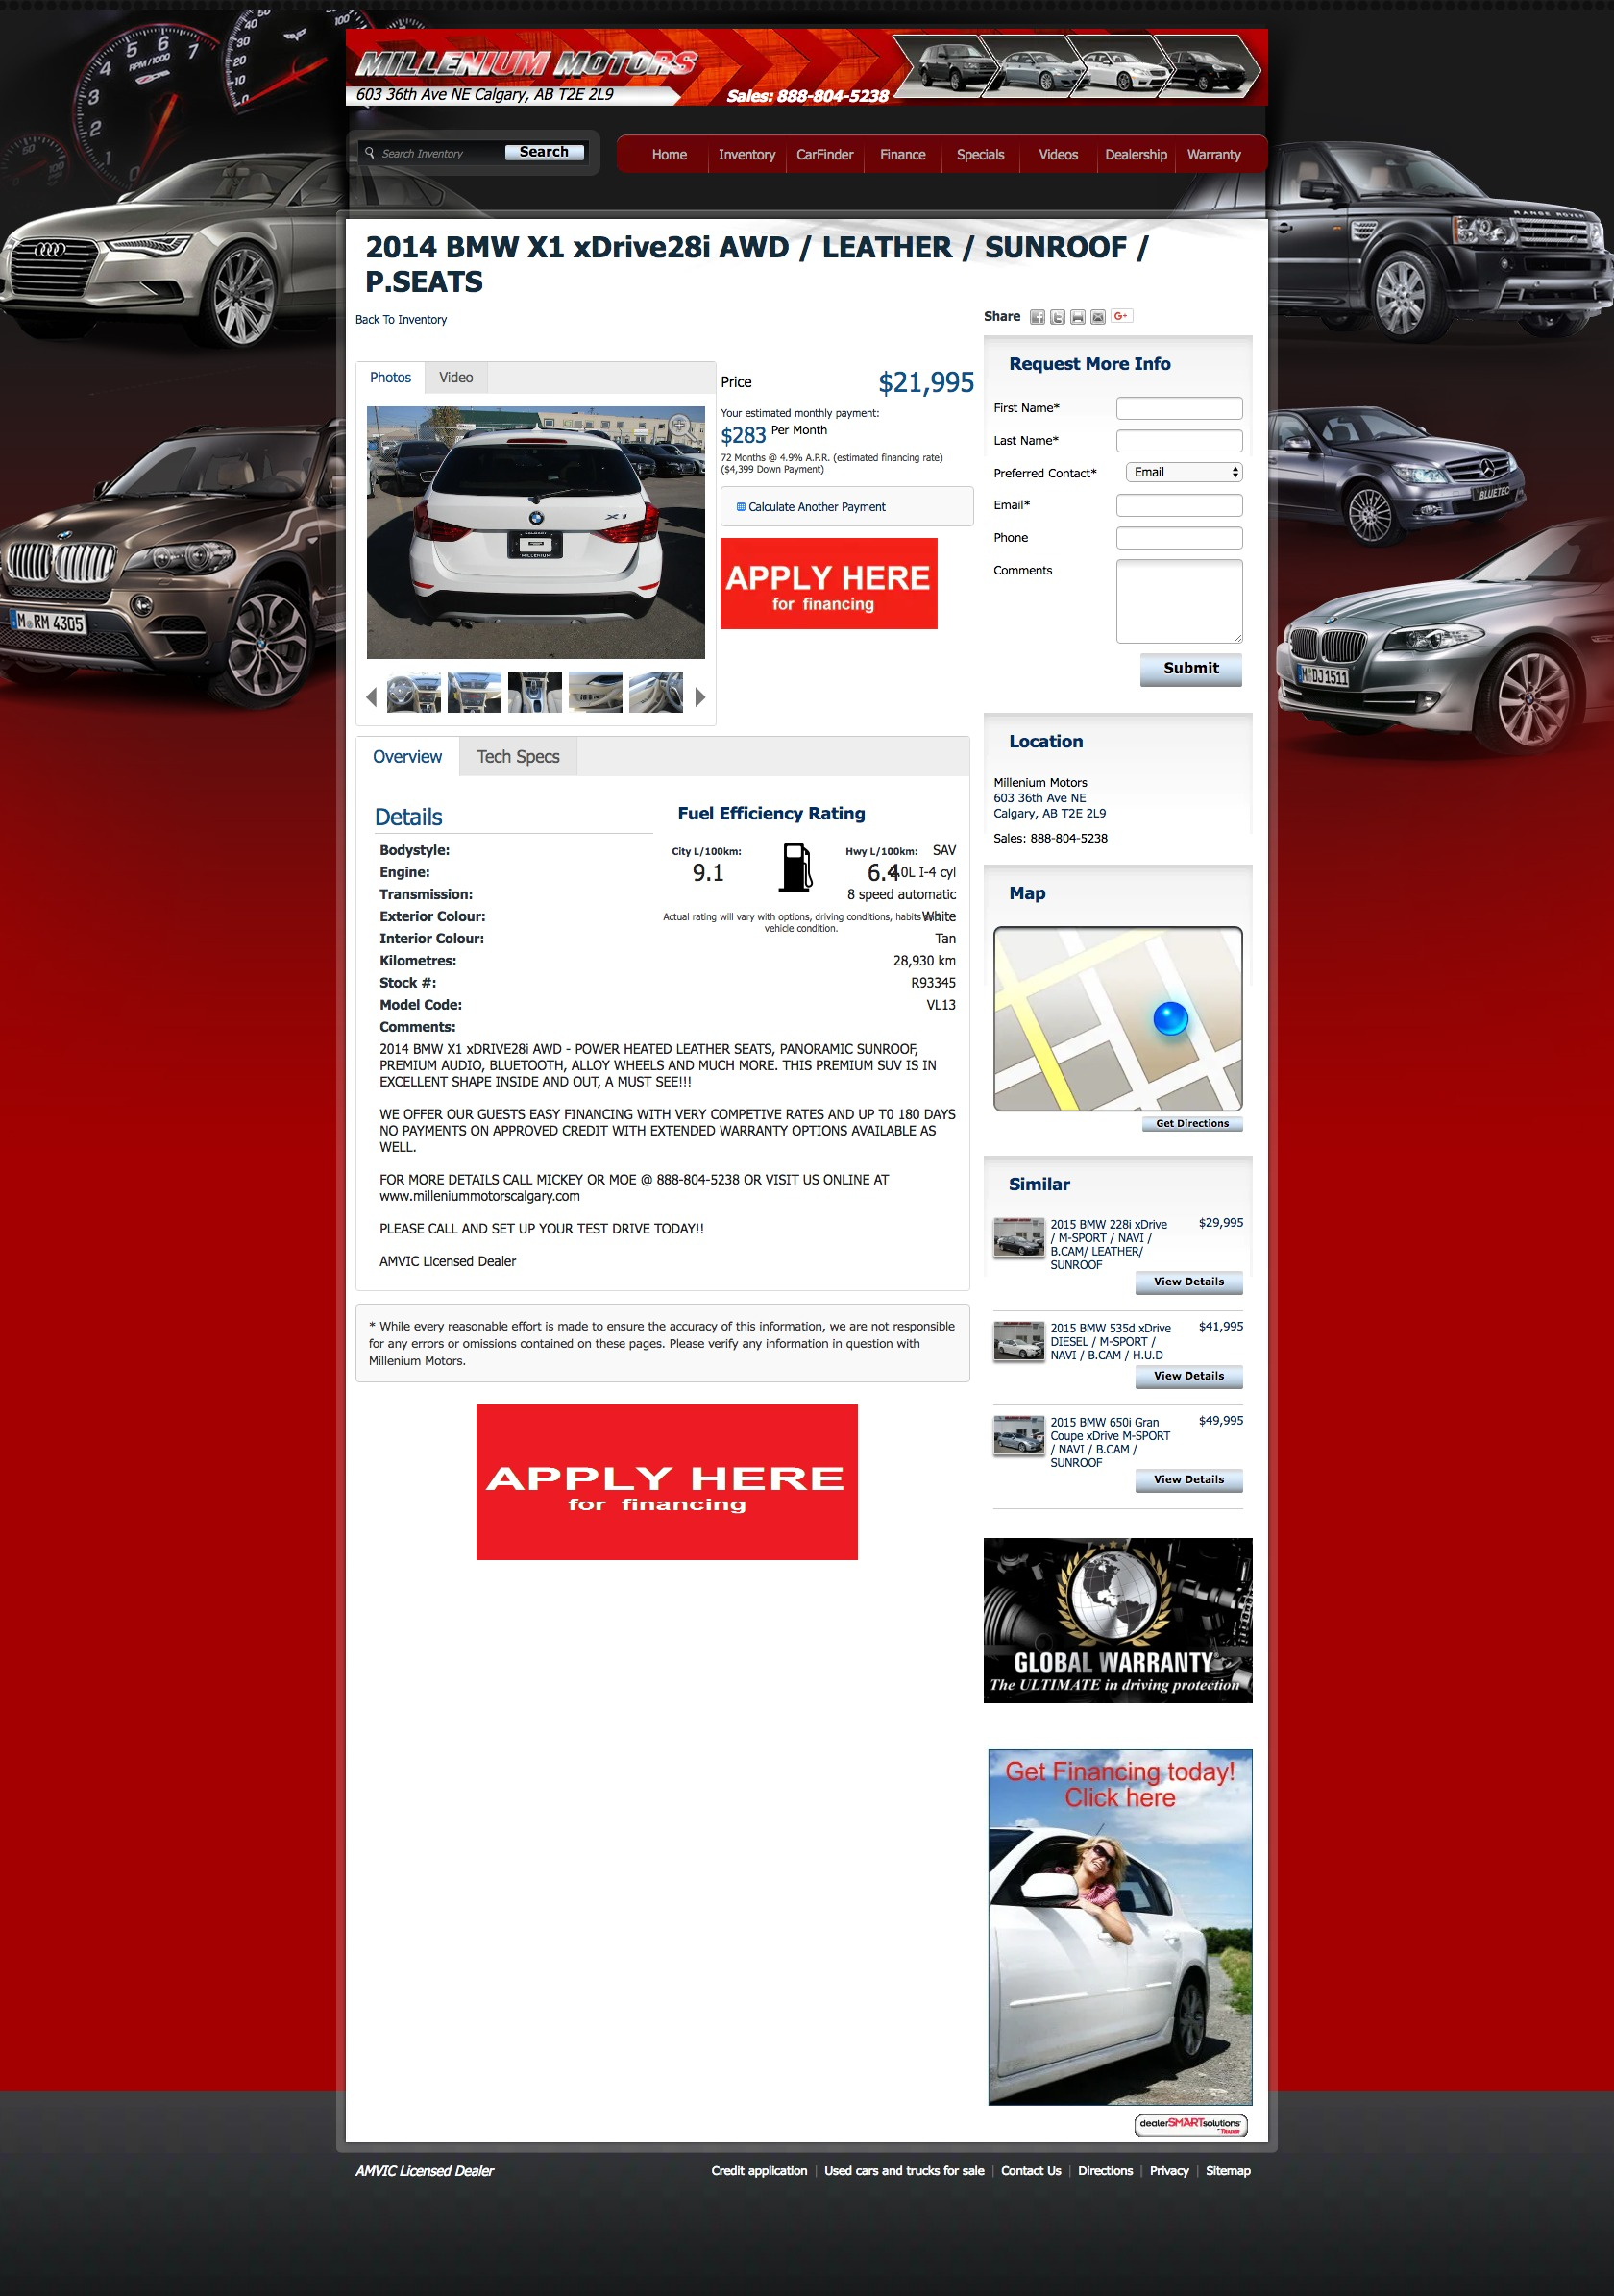car: (695, 686, 707, 709)
